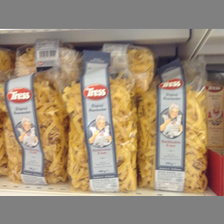pasta: (59, 59, 138, 193), (134, 64, 207, 192), (1, 72, 67, 185)
